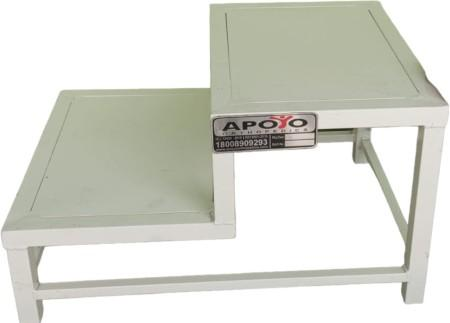stool: (1, 0, 450, 323)
